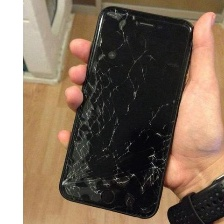phone: (55, 2, 197, 220)
